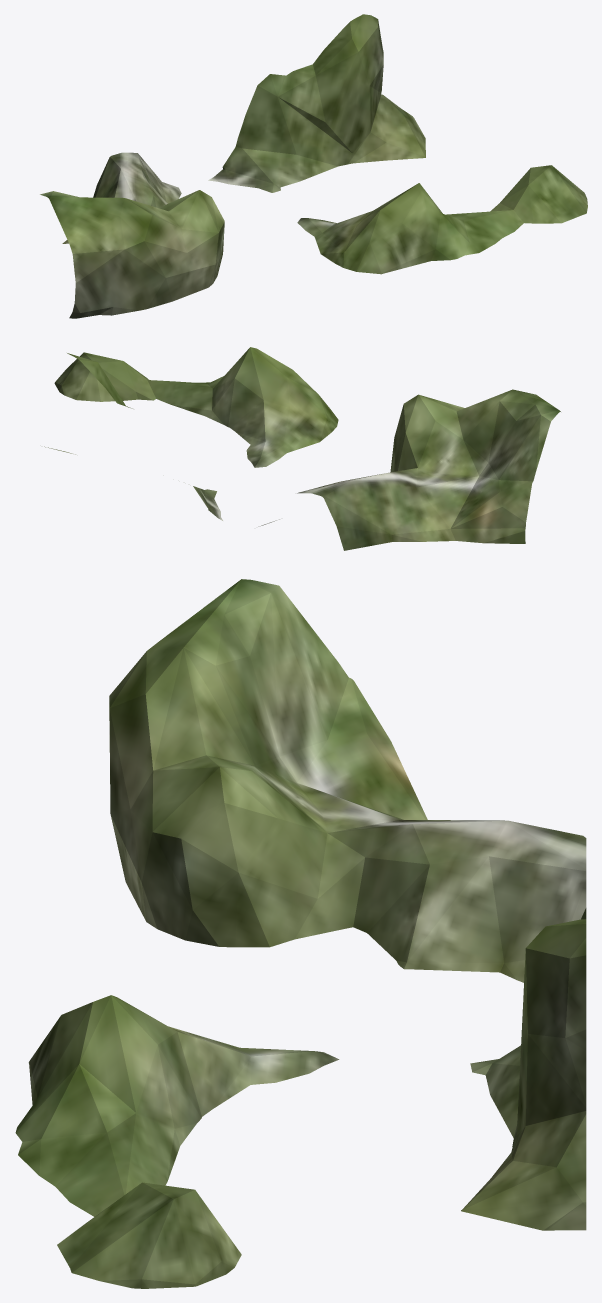
3 views of the same model, one above another, from view 1: azimuth 30°, elevation 25°; view 2: azimuth 150°, elevation 25°; view 3: azimuth 270°, elevation 25° (orthographic). The views are drawn at different scales.
Size of the model in its own units: 2.21 by 0.5293 by 1.07.
1 material, 1 textured.
